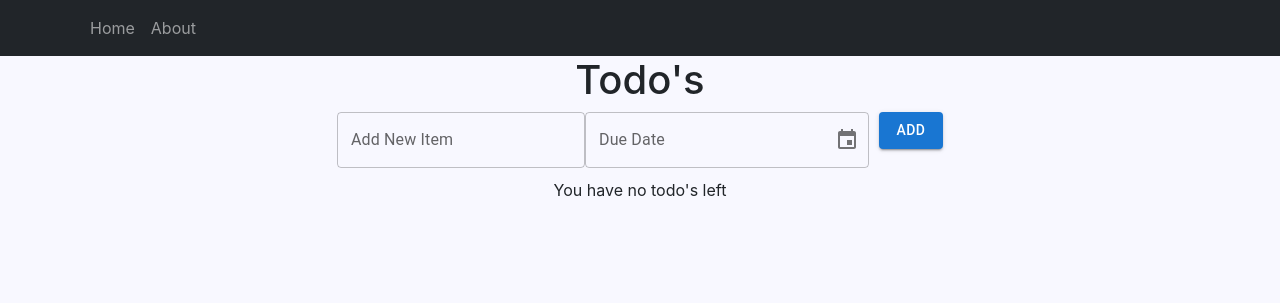
Test: test that App component doesn't render dupicate Task
This screenshot has width=1280, height=303.
Type "Dupe" into the field labelled "Add New Item". click: (461, 140)
box: [337,112,585,168]
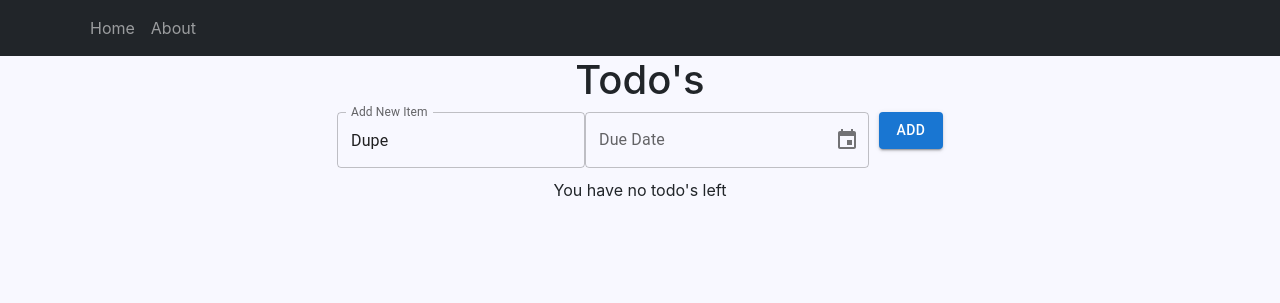
Type "2/2/2022" into the field with placeholder "mm/dd/yyyy". click: (702, 140)
box: [585,112,819,168]
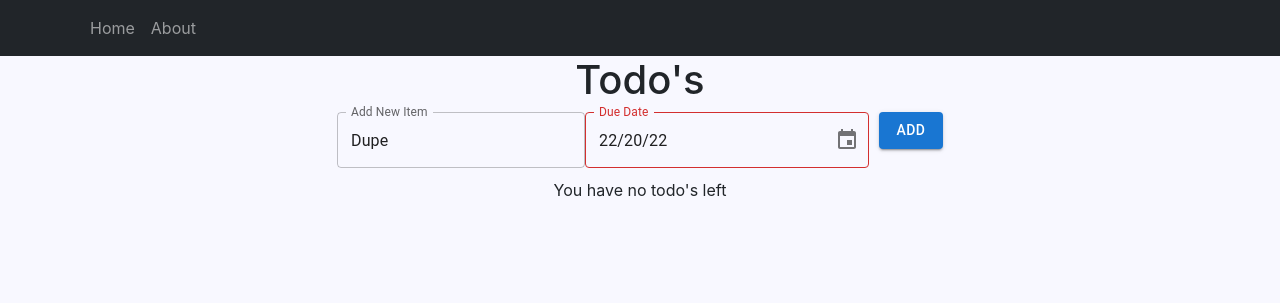
Click the button "Add". click: (911, 130)
box: [879,112,943,148]
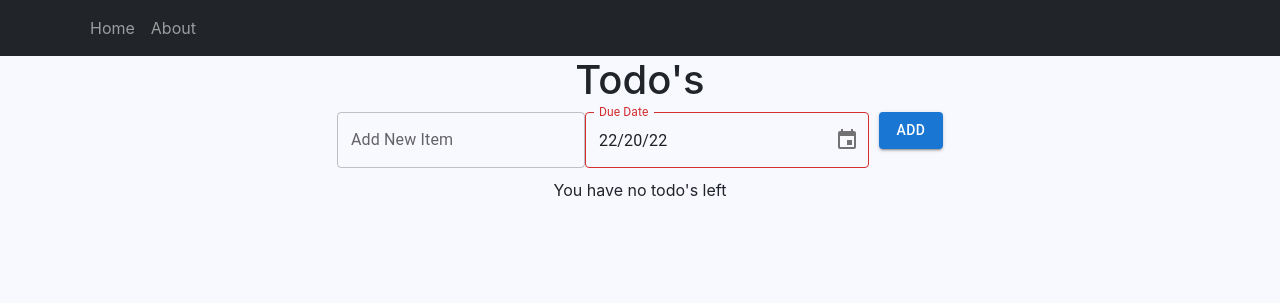
Type "Dupe" into the field labelled "Add New Item". click: (461, 140)
box: [337,112,585,168]
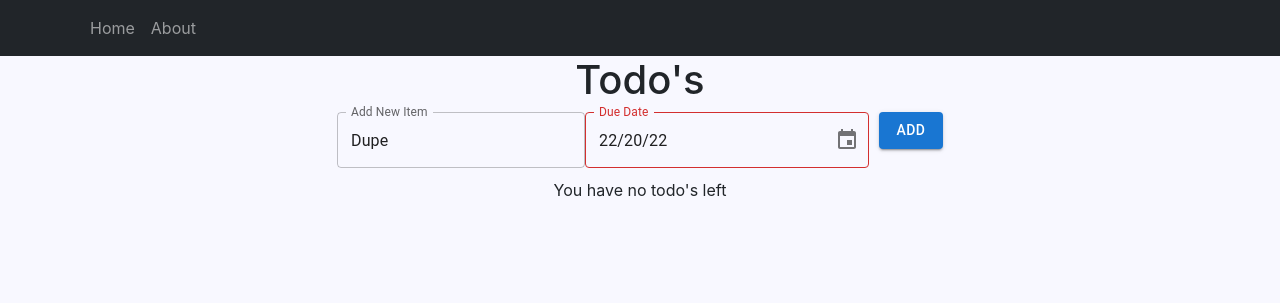
Replace the text in the field with placeholder "mm/dd/yyyy" with "02/02/2022". click: (702, 140)
box: [585,112,819,168]
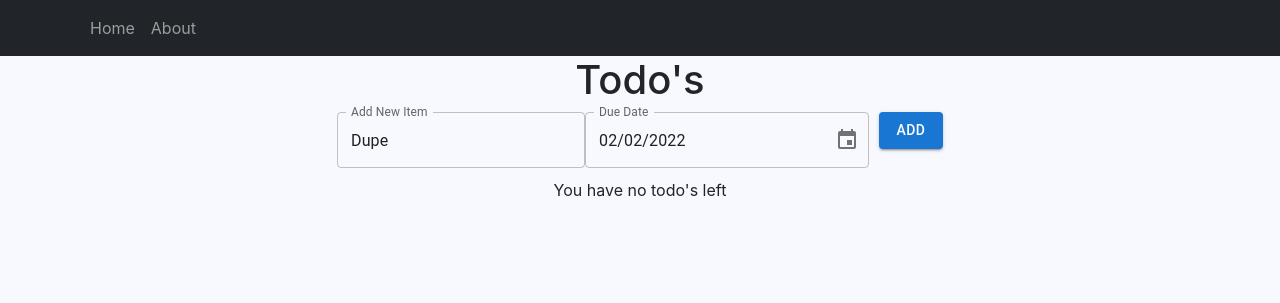
Click the button "Add". click: (911, 130)
box: [879,112,943,148]
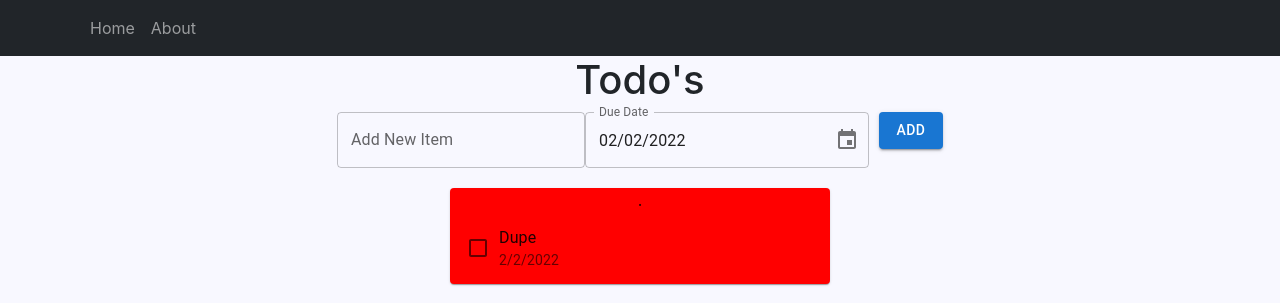
Expected: the text "Dupe" is shown once, [499,228,536,247]
